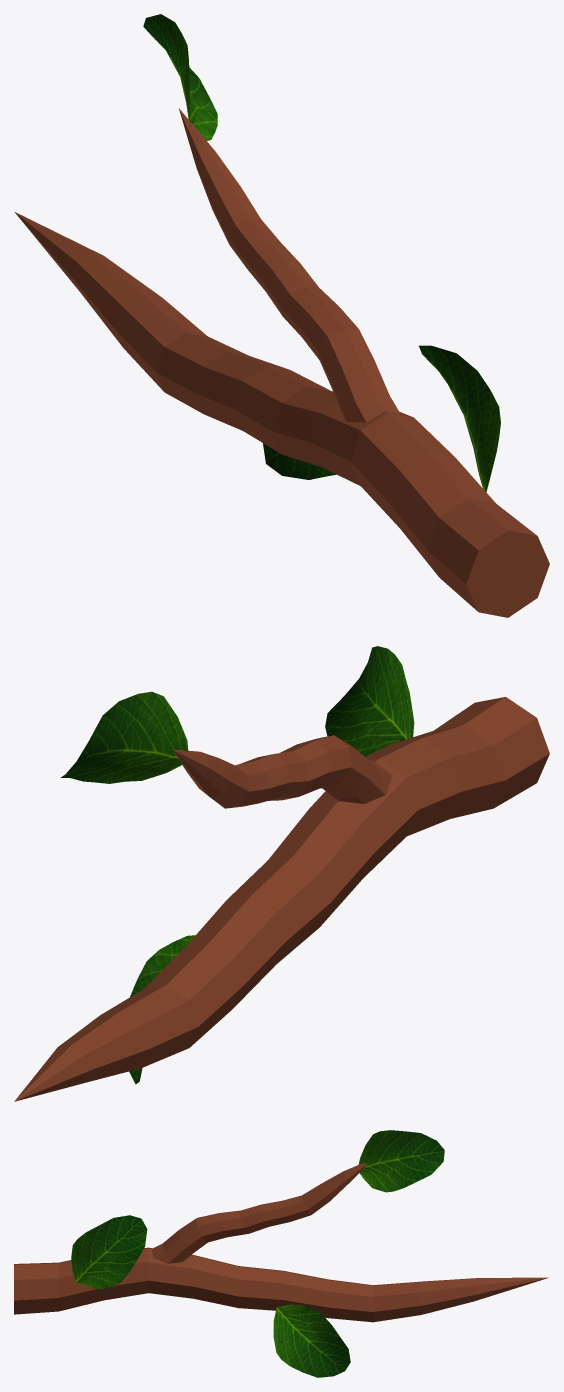
File: branch_1.fbx
3 renders of one model, top to bottom at view 1: azimuth 30°, elevation 25°; view 2: azimuth 150°, elevation 25°; view 3: azimuth 270°, elevation 25°, orthographic. The views are drawn at different scales.
Parts seen in each view (by area): view 1: Cylinder, Plane.001, Plane, Plane.002; view 2: Cylinder, Plane, Plane.001, Plane.002; view 3: Cylinder, Plane.002, Plane.001, Plane.
Part boxes in pixels (x1=…): Cylinder: x1=15, y1=108, x2=549, y2=617; Plane.001: x1=419, y1=345, x2=500, y2=492; Plane: x1=143, y1=14, x2=217, y2=140; Plane.002: x1=263, y1=443, x2=336, y2=479; Cylinder: x1=14, y1=697, x2=549, y2=1101; Plane: x1=60, y1=691, x2=188, y2=783; Plane.001: x1=325, y1=646, x2=414, y2=756; Plane.002: x1=129, y1=935, x2=195, y2=1084; Cylinder: x1=14, y1=1163, x2=548, y2=1322; Plane.002: x1=273, y1=1304, x2=350, y2=1377; Plane.001: x1=71, y1=1215, x2=147, y2=1289; Plane: x1=358, y1=1130, x2=444, y2=1192.
Size of the model in its own units: 28.83 by 95.49 by 199.
